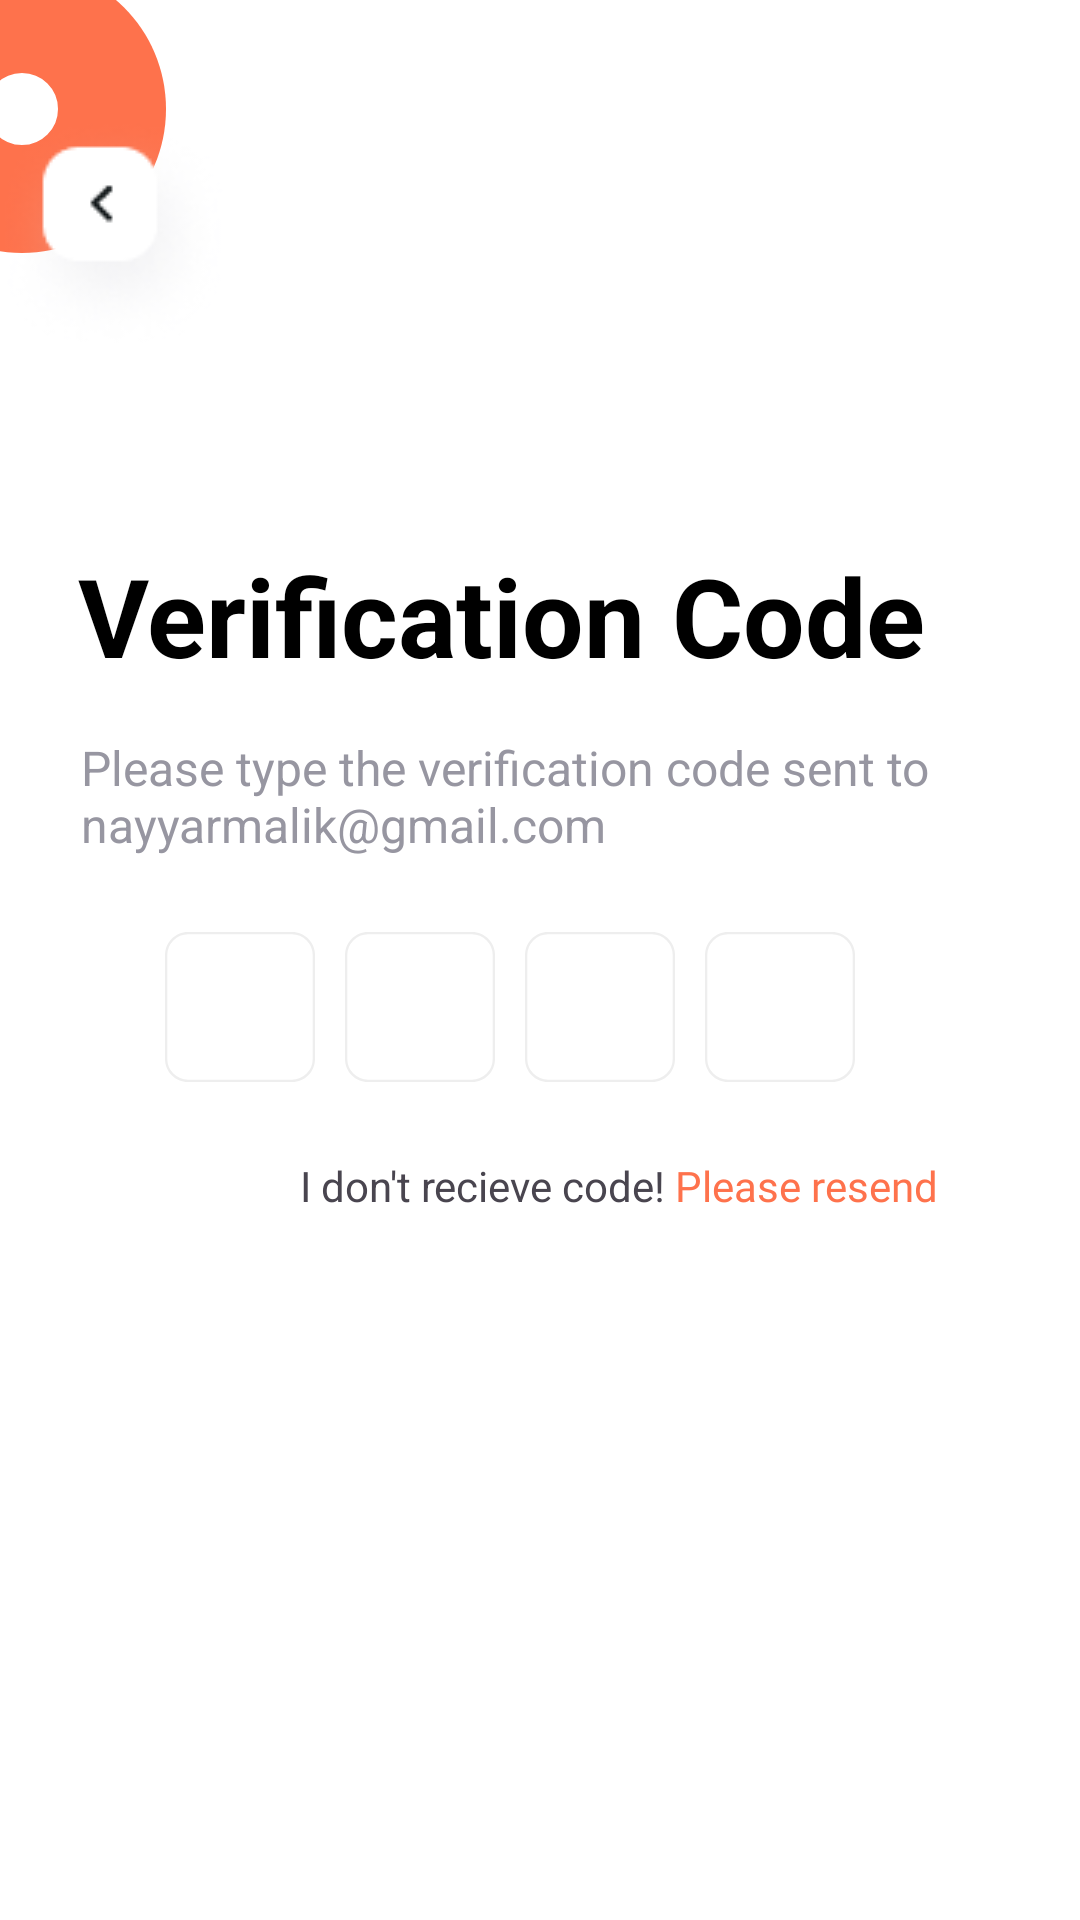

Point at icon controls on the screen. Image size 1080w x 1920h, points as (x,y).
back: (83,185)
